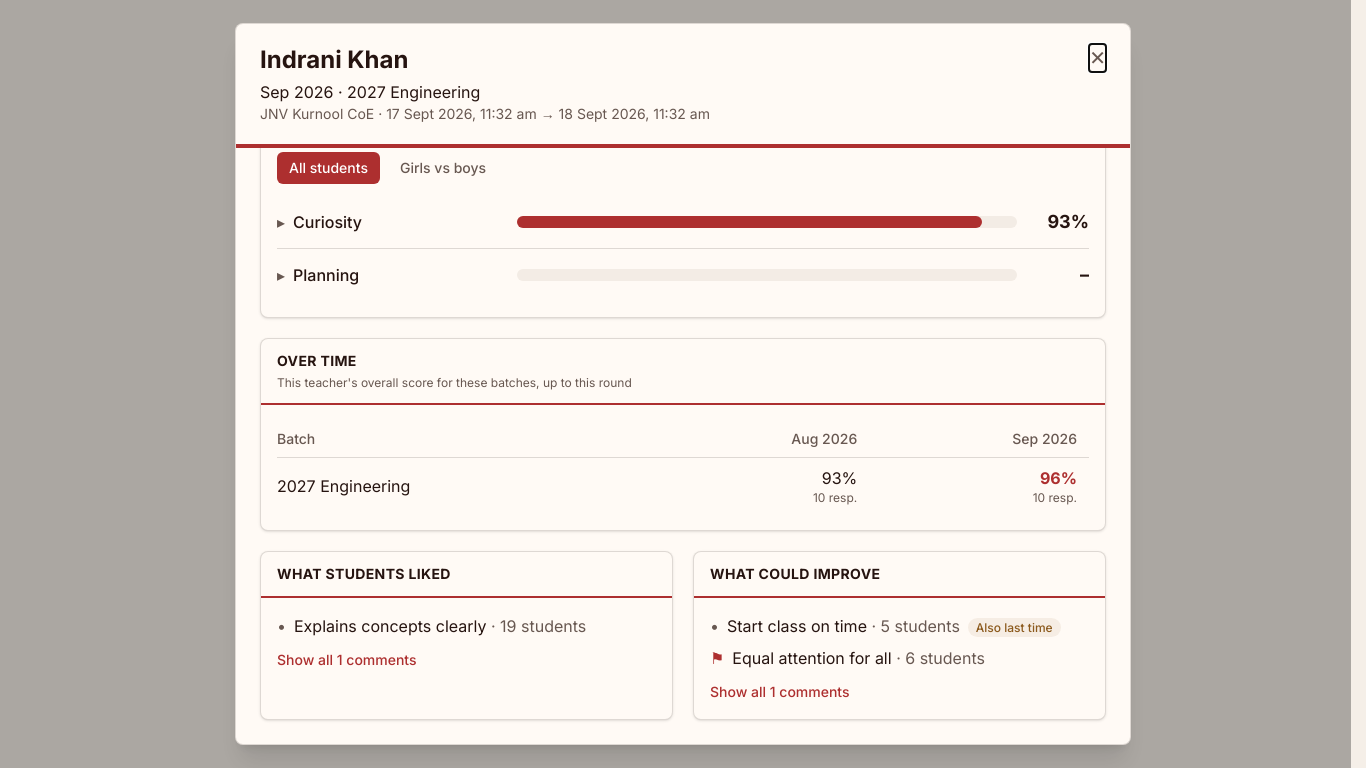
Scenario: comment summary › shows themes in place of the raw comments, which are a click away
This screenshot has width=1366, height=768.
(page scrolled)
Expected: the text "Explains concepts clearly" is shown, [294, 616, 486, 636]
Expected: the text "· 19 students" is shown, [486, 616, 586, 636]
Click the button "Show all 1 comments" below "Explains concepts clearly": (347, 660) [277, 650, 416, 670]
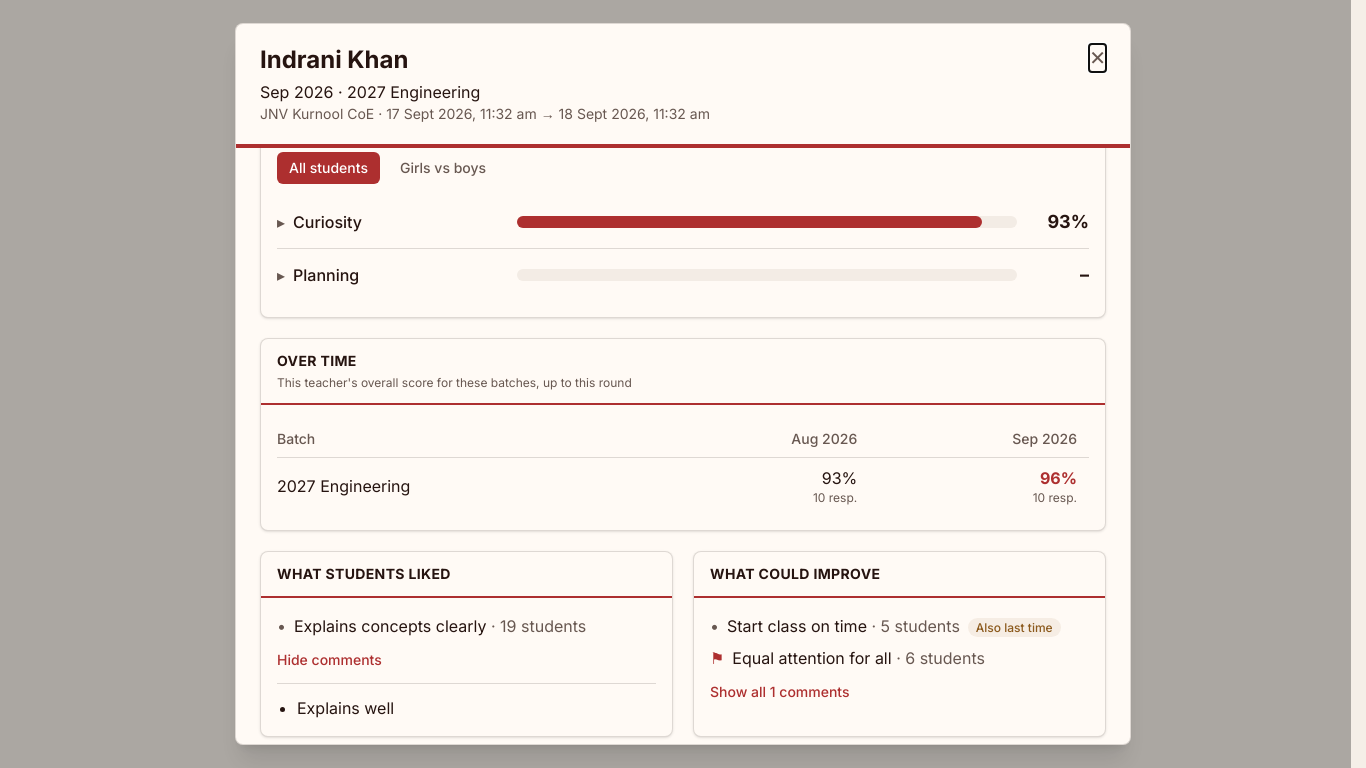
Expected: the list item "Explains well" is shown, [297, 698, 394, 718]
